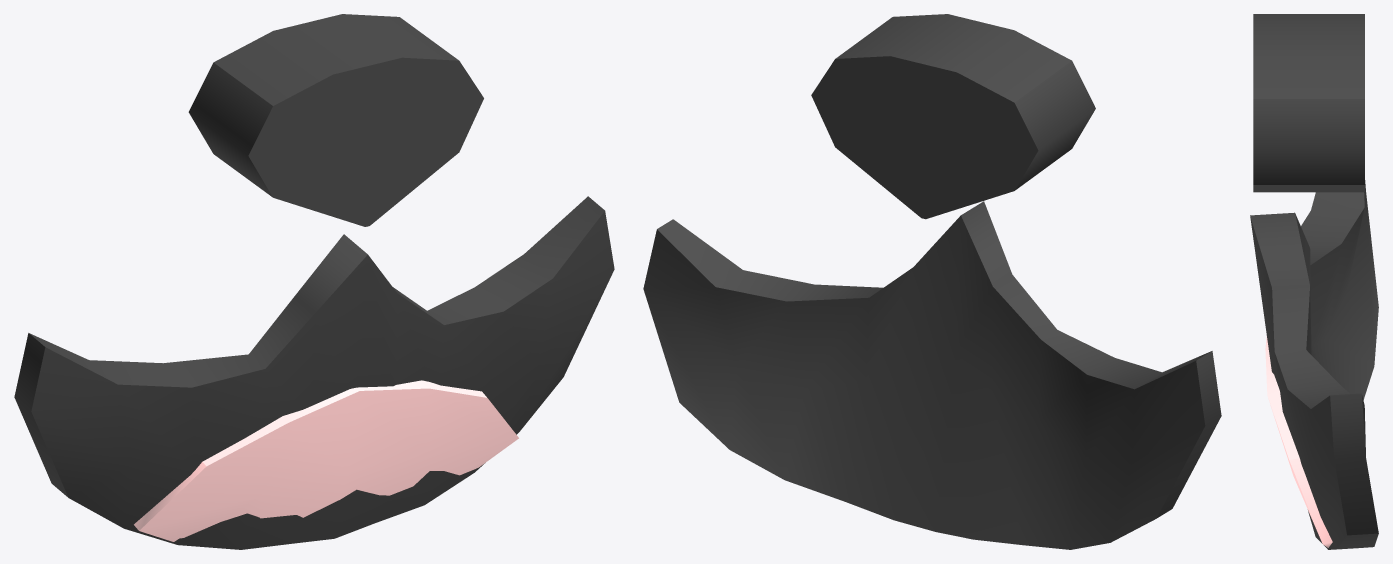
Rendered from NewJeans_DANIEL_mouth.gltf.
The picture shows the model from 3 angles, left to right: view 1: azimuth 30°, elevation 25°; view 2: azimuth 150°, elevation 25°; view 3: azimuth 270°, elevation 25°; orthographic projection. The views are drawn at different scales.
Visible parts, largest first — view 1: DANIEL_mouth, nose; view 2: DANIEL_mouth, nose; view 3: DANIEL_mouth, nose.
Part boxes in pixels (box(x1,y1,x2,y2)): DANIEL_mouth: box(14, 196, 614, 549); nose: box(188, 14, 483, 226); DANIEL_mouth: box(643, 201, 1221, 549); nose: box(811, 14, 1095, 219); DANIEL_mouth: box(1250, 180, 1378, 549); nose: box(1253, 14, 1364, 192).
Bounding box in the file's own units: 0.00903 × 0.00733 × 0.00185.
